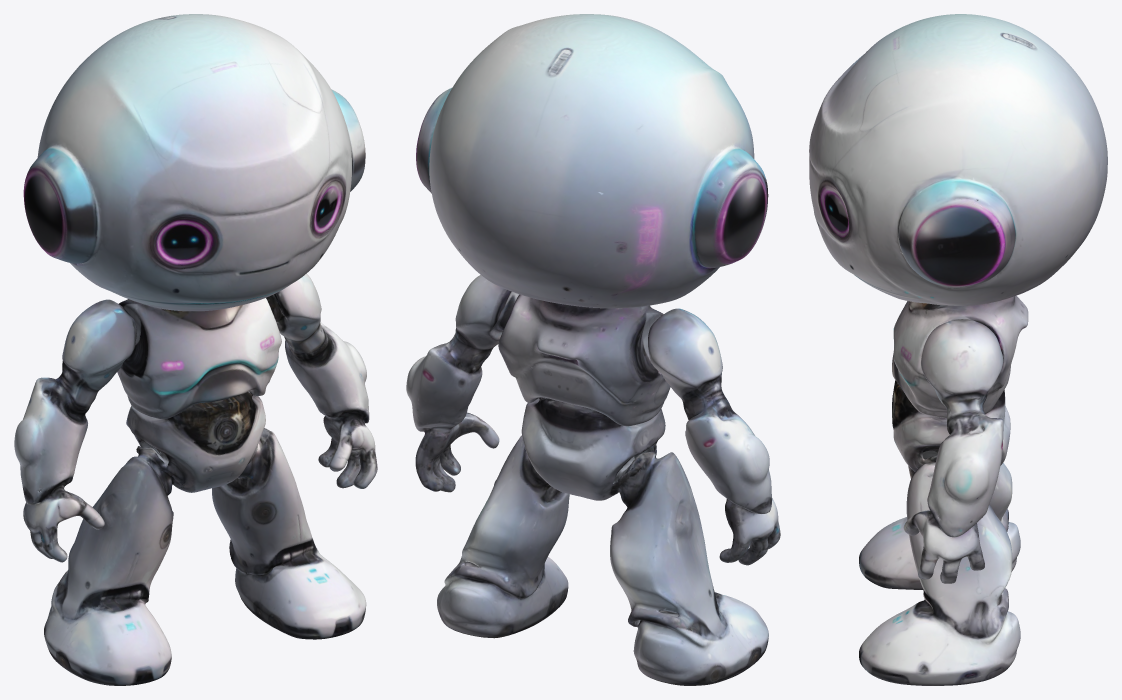
Rendered from robot.glb.
The picture shows the model from 3 angles, left to right: view 1: azimuth 30°, elevation 25°; view 2: azimuth 150°, elevation 25°; view 3: azimuth 270°, elevation 25°; orthographic projection. The views are drawn at different scales.
Bounding box in the file's own units: 1.2 × 2 × 0.9174.
Materials: 1 (1 with a texture image).
